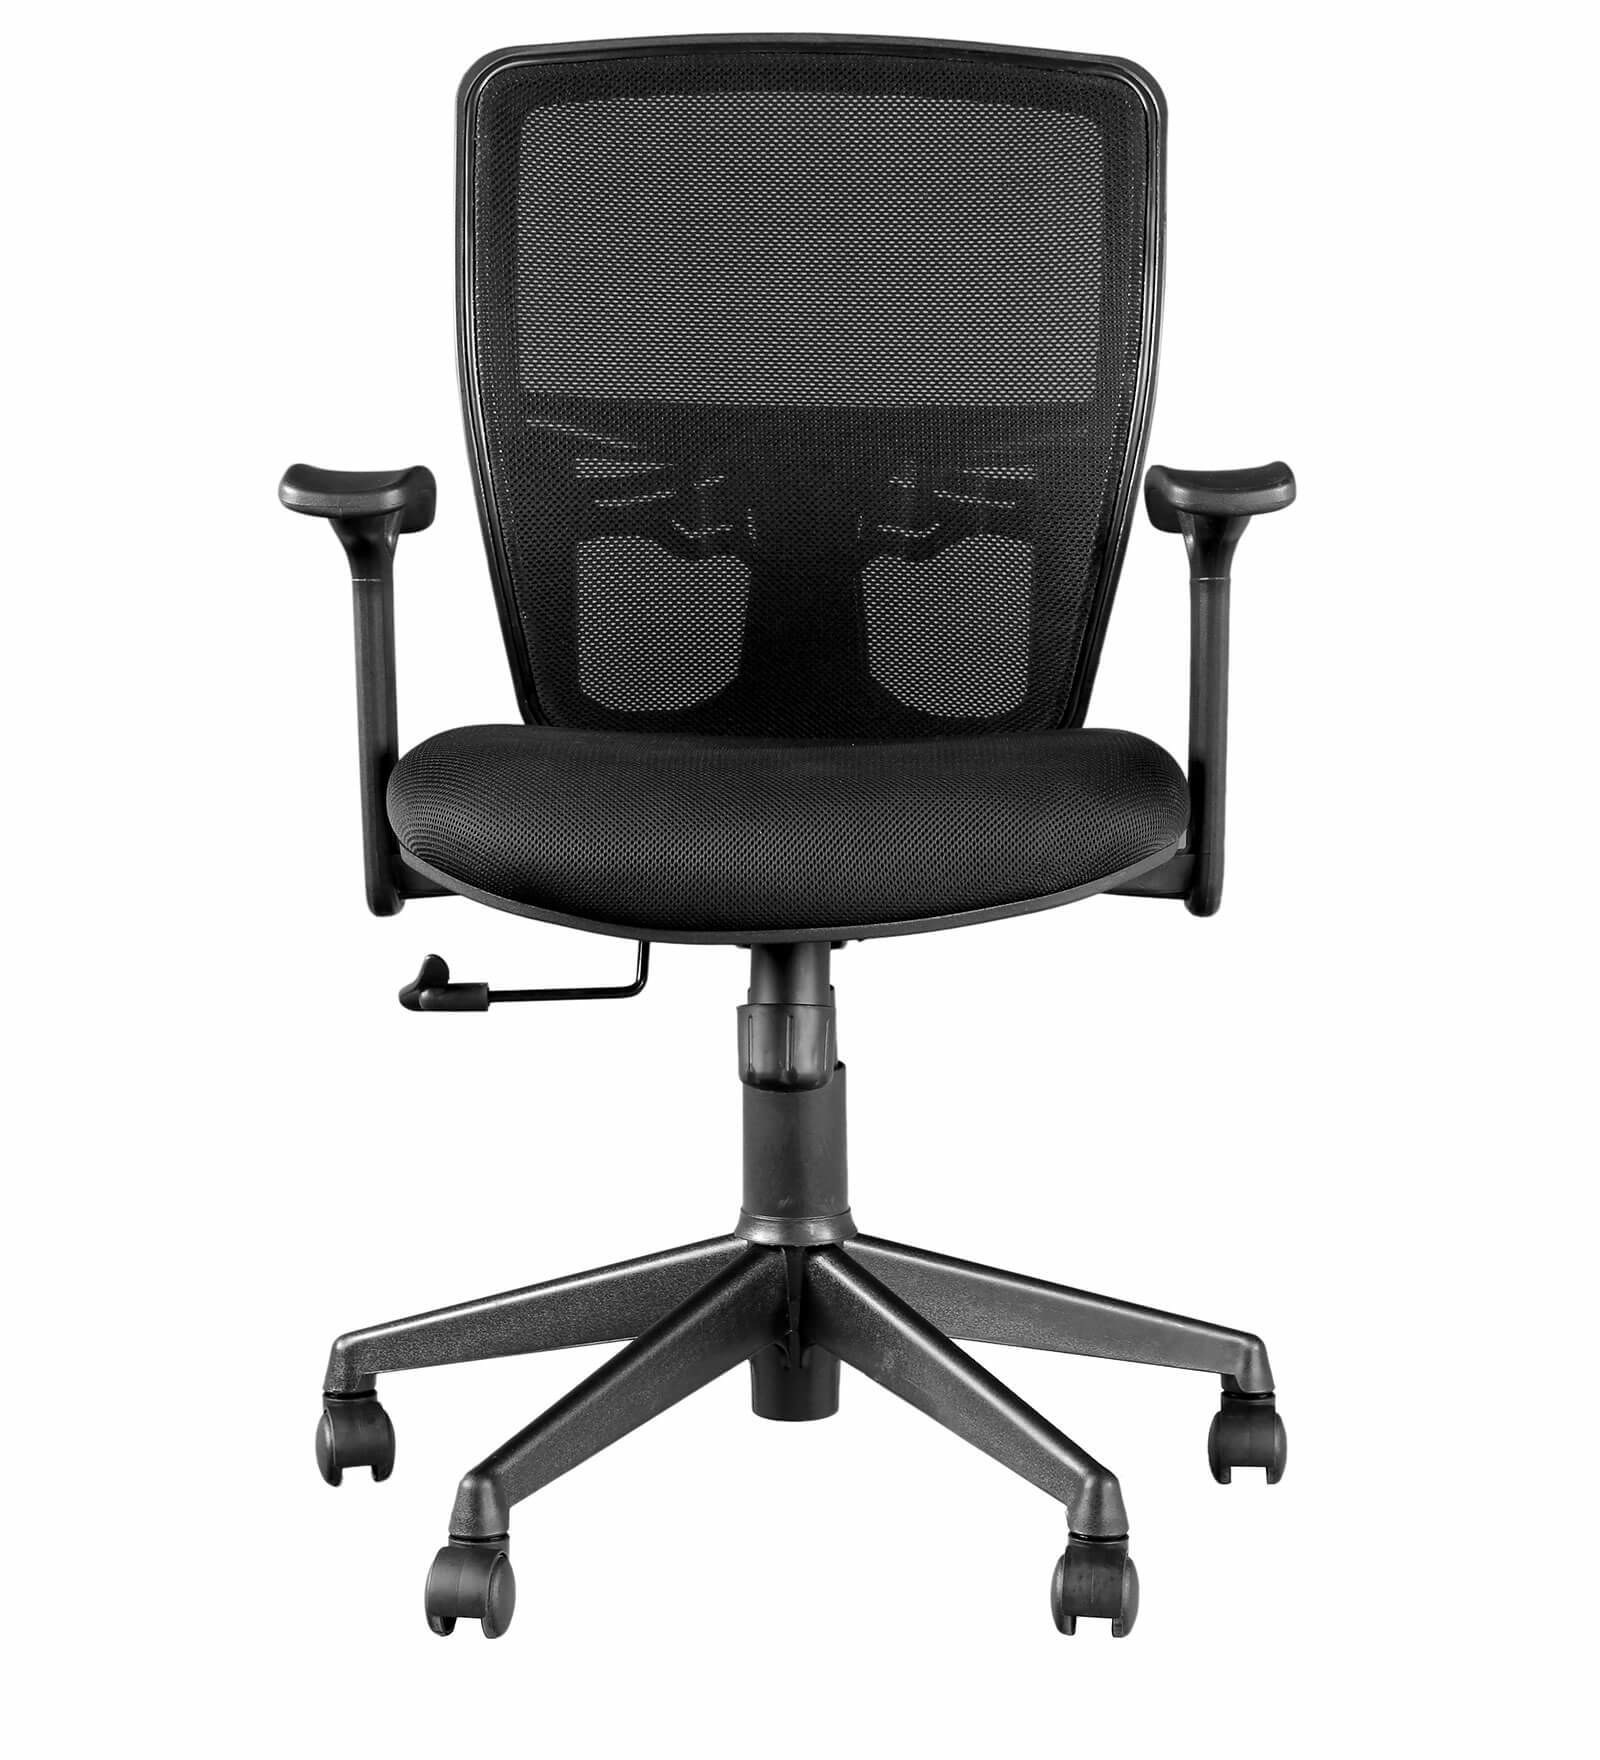Aspire High Back Ergonomic Chair in Black Colour by HomeTown: (284, 17, 1316, 1734)
